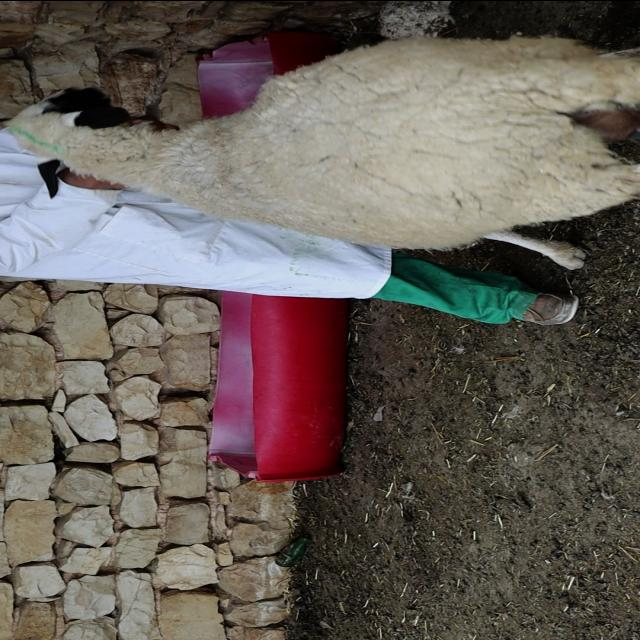Score_4: (7, 36, 639, 248)
